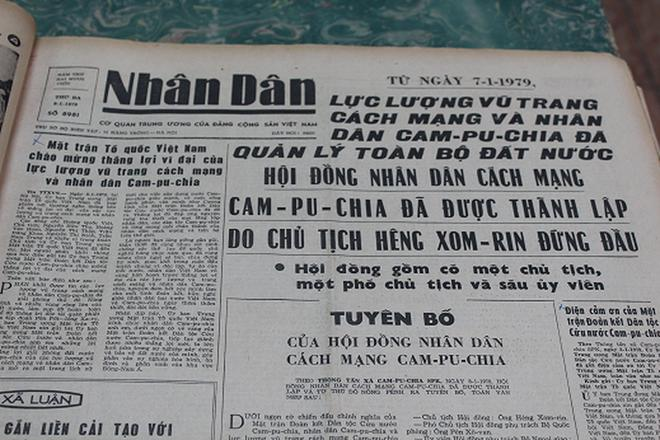paper: (0, 2, 660, 440)
